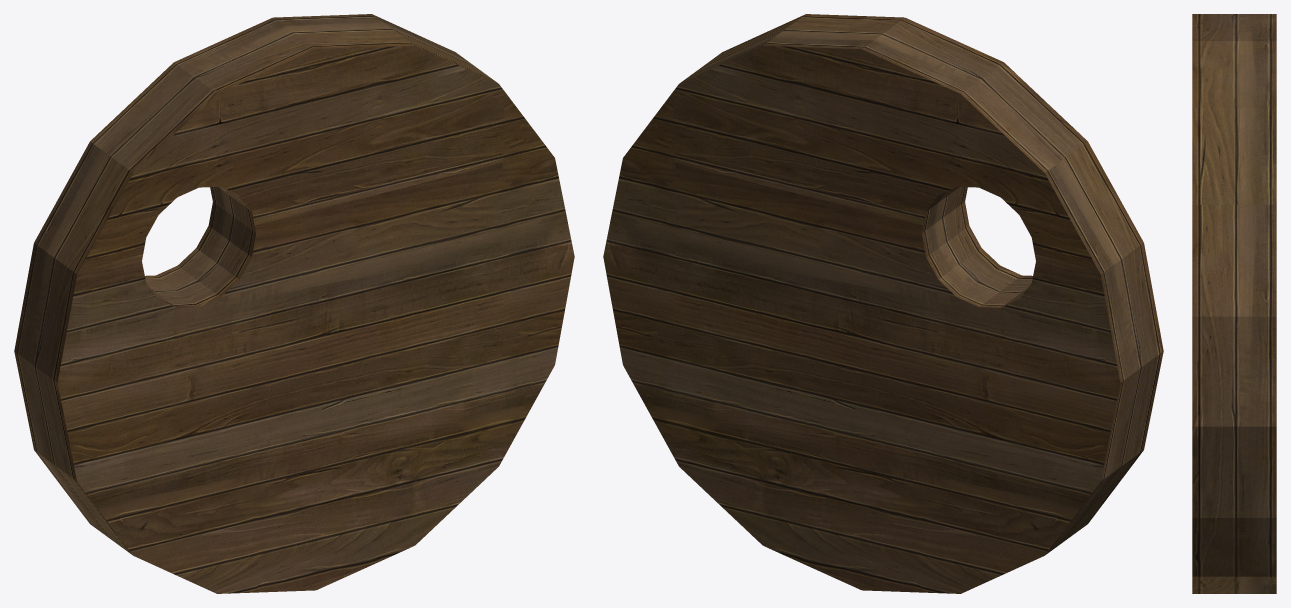
The model's file is part_CircleWheeler.gltf.
The picture shows the model from 3 angles, left to right: view 1: azimuth 30°, elevation 25°; view 2: azimuth 150°, elevation 25°; view 3: azimuth 270°, elevation 25°; orthographic projection. The views are drawn at different scales.
Parts seen in each view (by area): view 1: part_CircleWheeler_glb; view 2: part_CircleWheeler_glb; view 3: part_CircleWheeler_glb.
Part boxes in pixels (left/top/right/bottom): part_CircleWheeler_glb: left=14, top=14, right=574, bottom=593; part_CircleWheeler_glb: left=603, top=14, right=1163, bottom=593; part_CircleWheeler_glb: left=1192, top=14, right=1276, bottom=593.
Size of the model in its own units: 3.6 by 3.6 by 0.5212.
Materials: 1 (1 with a texture image).
